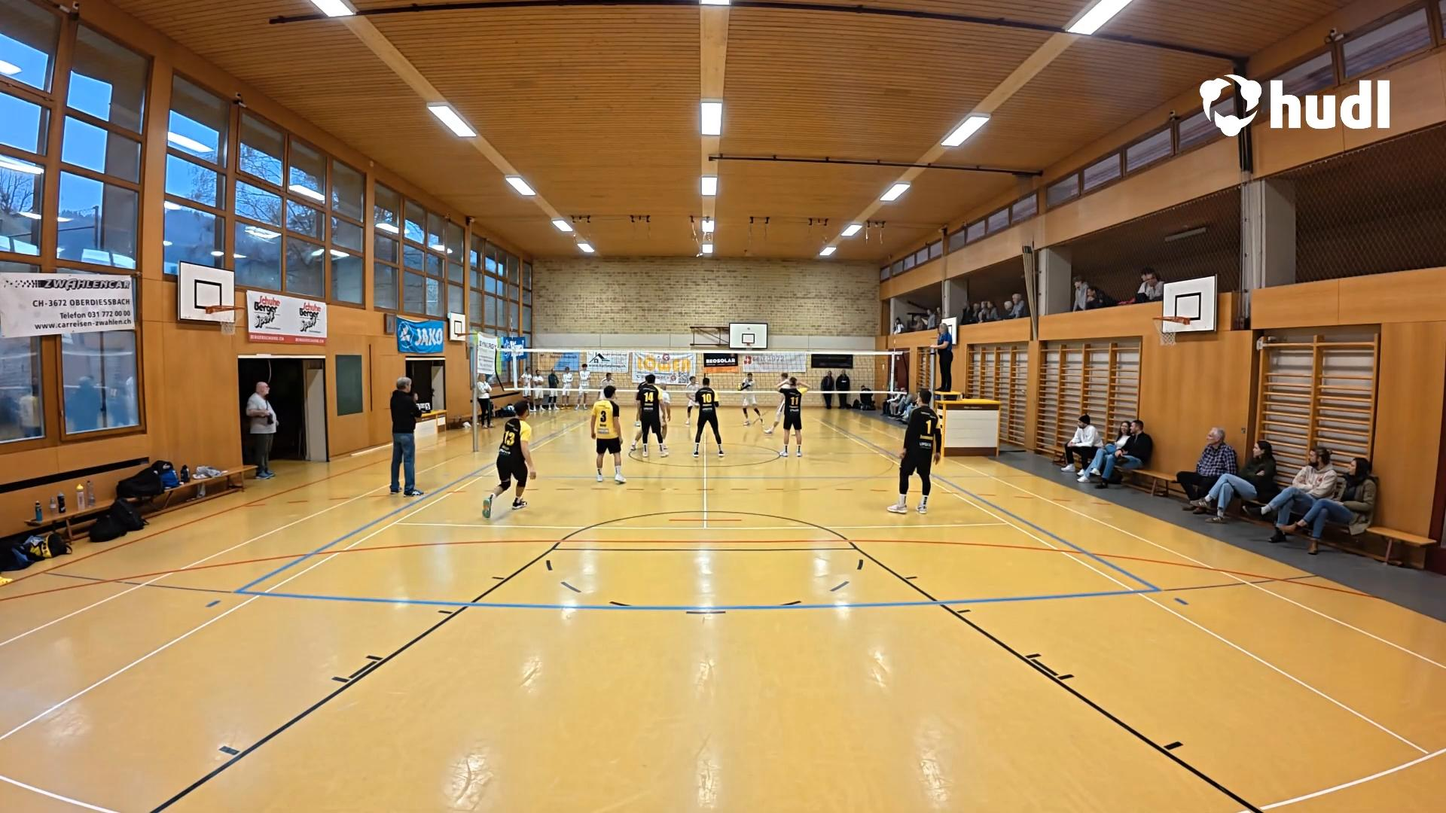ricezione: (734, 370, 765, 429)
